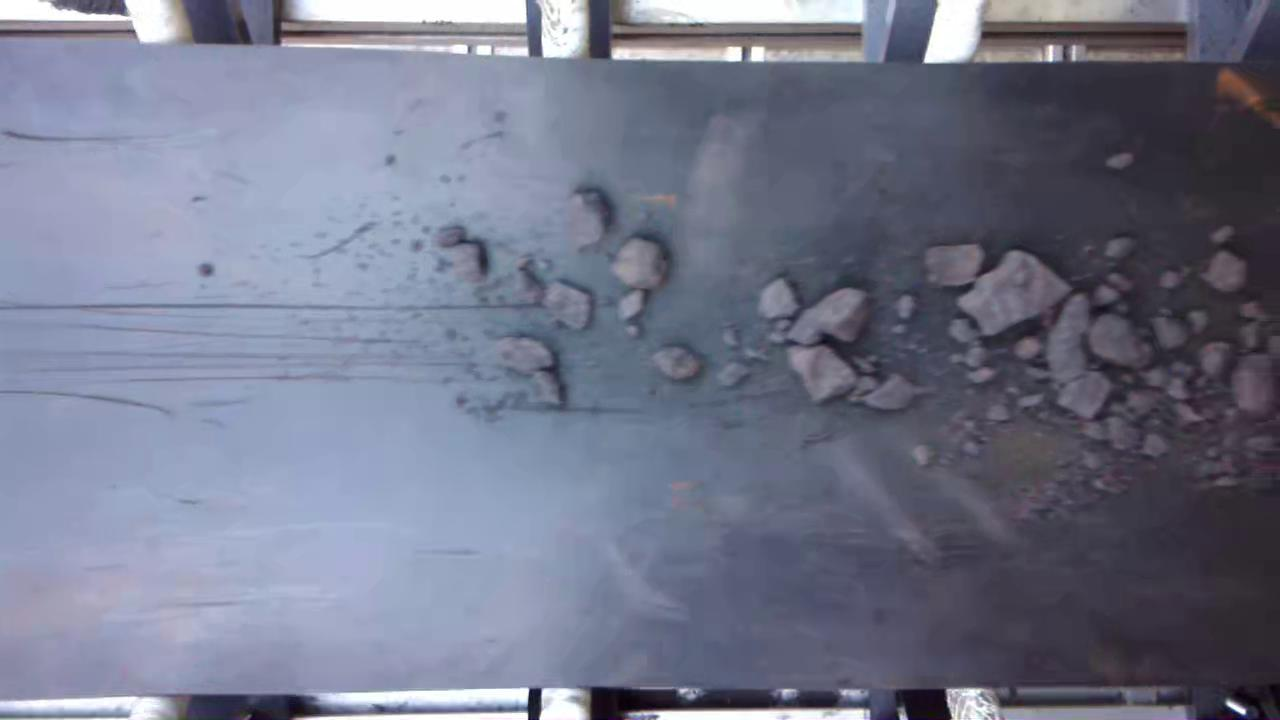conveyor: (3, 66, 1280, 680)
